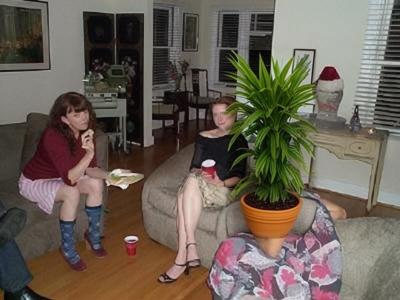chair: (140, 140, 228, 272), (183, 67, 225, 134), (153, 93, 183, 143)
person: (208, 145, 349, 300), (18, 91, 111, 275), (157, 95, 242, 286)
pottedplant: (226, 49, 316, 237)
sofa: (1, 112, 111, 265)
